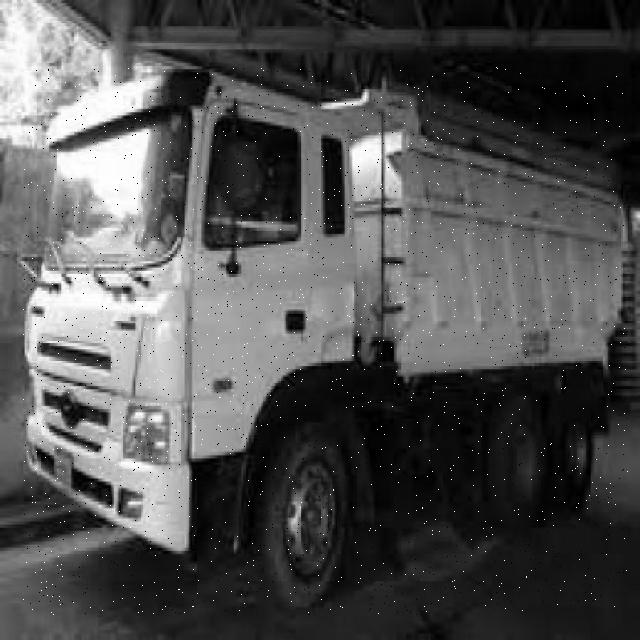Box Truck: (23, 67, 628, 615)
